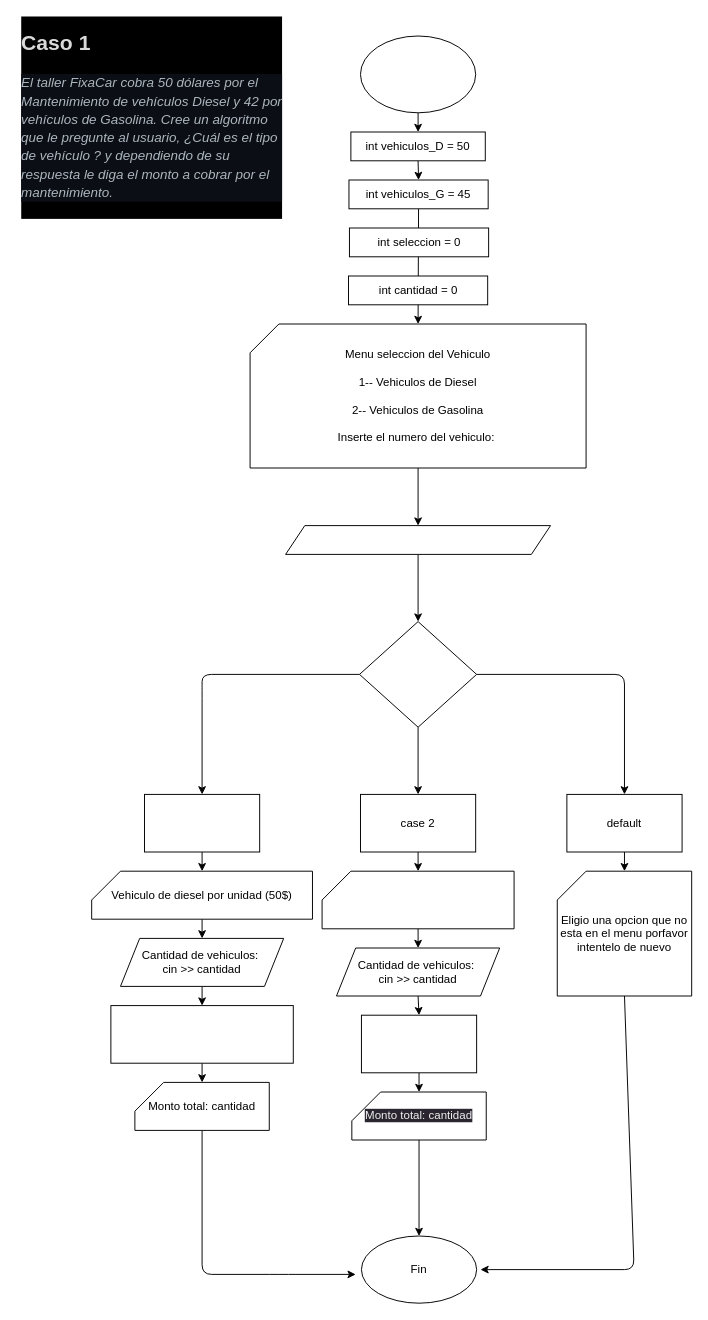
This 708x1320 diagram has some shape labels left out. The shapes that lost their labels are listed below. From the top down, each one's box as (x1, y1, x2, y2) in pixels, then its label:
(360, 35, 476, 113): Inicio
(285, 525, 551, 554): cin >> selecion
(359, 621, 477, 727): swicth (seleccion)
(144, 793, 260, 852): case 1
(321, 870, 514, 929): Vehiculo de gasolina por unidad (42$)
(110, 1005, 293, 1063): cantidad = cantidad * vehiculos_D
(360, 1014, 477, 1073): cantidad = cantidad * vehiculos_g
